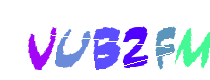2: (71, 0, 151, 80)
B: (67, 0, 147, 80)
F: (95, 0, 175, 80)
M: (129, 0, 209, 80)
U: (61, 0, 141, 80)
V: (0, 0, 80, 80)
